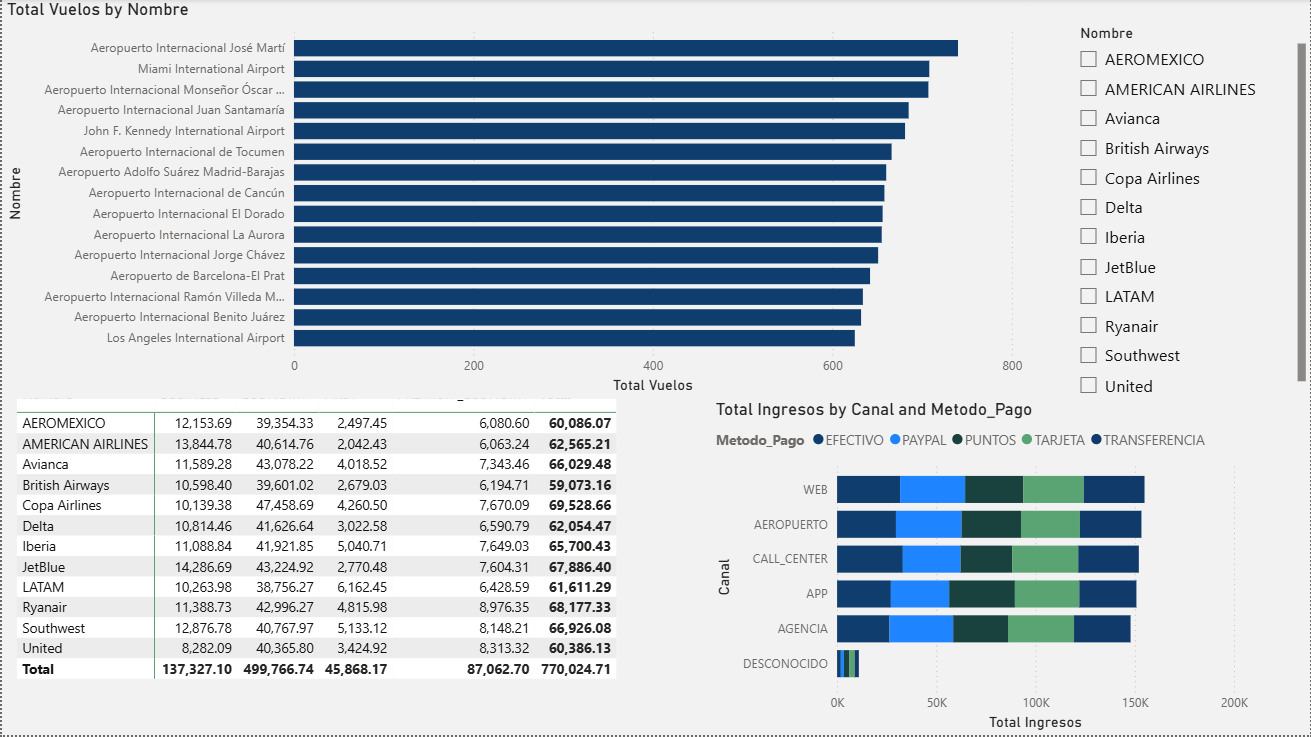

The page's visual inventory and layout, read from the dashboard file:
{"tool":"powerbi","page":{"name":"Page 2","canvas":[1280,720],"ordinal":1},"visuals":[{"type":"barChart","fields":{"Category":["DIM_CANAL.Canal"],"Y":["Hechos_Vuelo.Total Ingresos"],"Series":["DIM_METODO_PAGO.Metodo_Pago"]},"box":[693,391.1,531,329.3],"z":0},{"type":"pivotTable","fields":{"Rows":["DIM_AEROLINEA.Nombre"],"Columns":["DIM_CLASE.Clase_Cabina"],"Values":["Hechos_Vuelo.Total Ingresos"]},"box":[9.6,370.5,601,349.9],"z":1000},{"type":"clusteredBarChart","fields":{"Category":["DIM_AEROPUERTO.Nombre"],"Y":["Hechos_Vuelo.Total Vuelos"]},"box":[0,0,1003.1,391.1],"z":2000},{"type":"slicer","fields":{"Values":["DIM_AEROLINEA.Nombre"]},"box":[1041.4,20,238.6,371.4],"z":3000}]}

Visuals, with their boxes in screenshot pixels (x1, y1, x2, y2), scaled from the page's 1280x720 canvas onto the 1311x737 screenshot:
barChart - DIM_CANAL.Canal x Hechos_Vuelo.Total Ingresos: bbox=[710, 400, 1254, 736]
pivotTable - DIM_AEROLINEA.Nombre x DIM_CLASE.Clase_Cabina: bbox=[10, 379, 625, 736]
clusteredBarChart - DIM_AEROPUERTO.Nombre x Hechos_Vuelo.Total Vuelos: bbox=[0, 0, 1027, 400]
slicer - DIM_AEROLINEA.Nombre: bbox=[1067, 20, 1310, 401]
